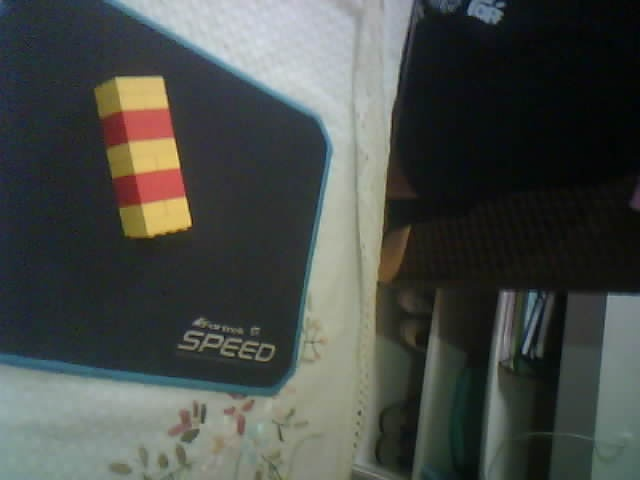lego: (91, 74, 194, 241)
